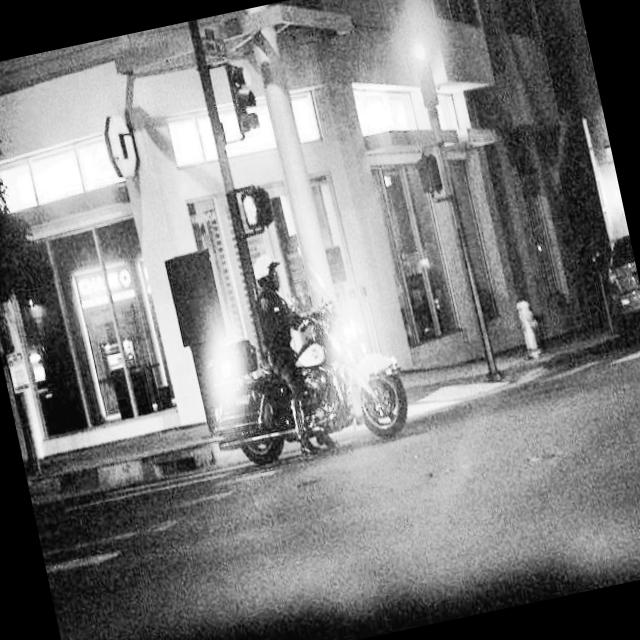Motorcycle: (167, 250, 450, 514)
